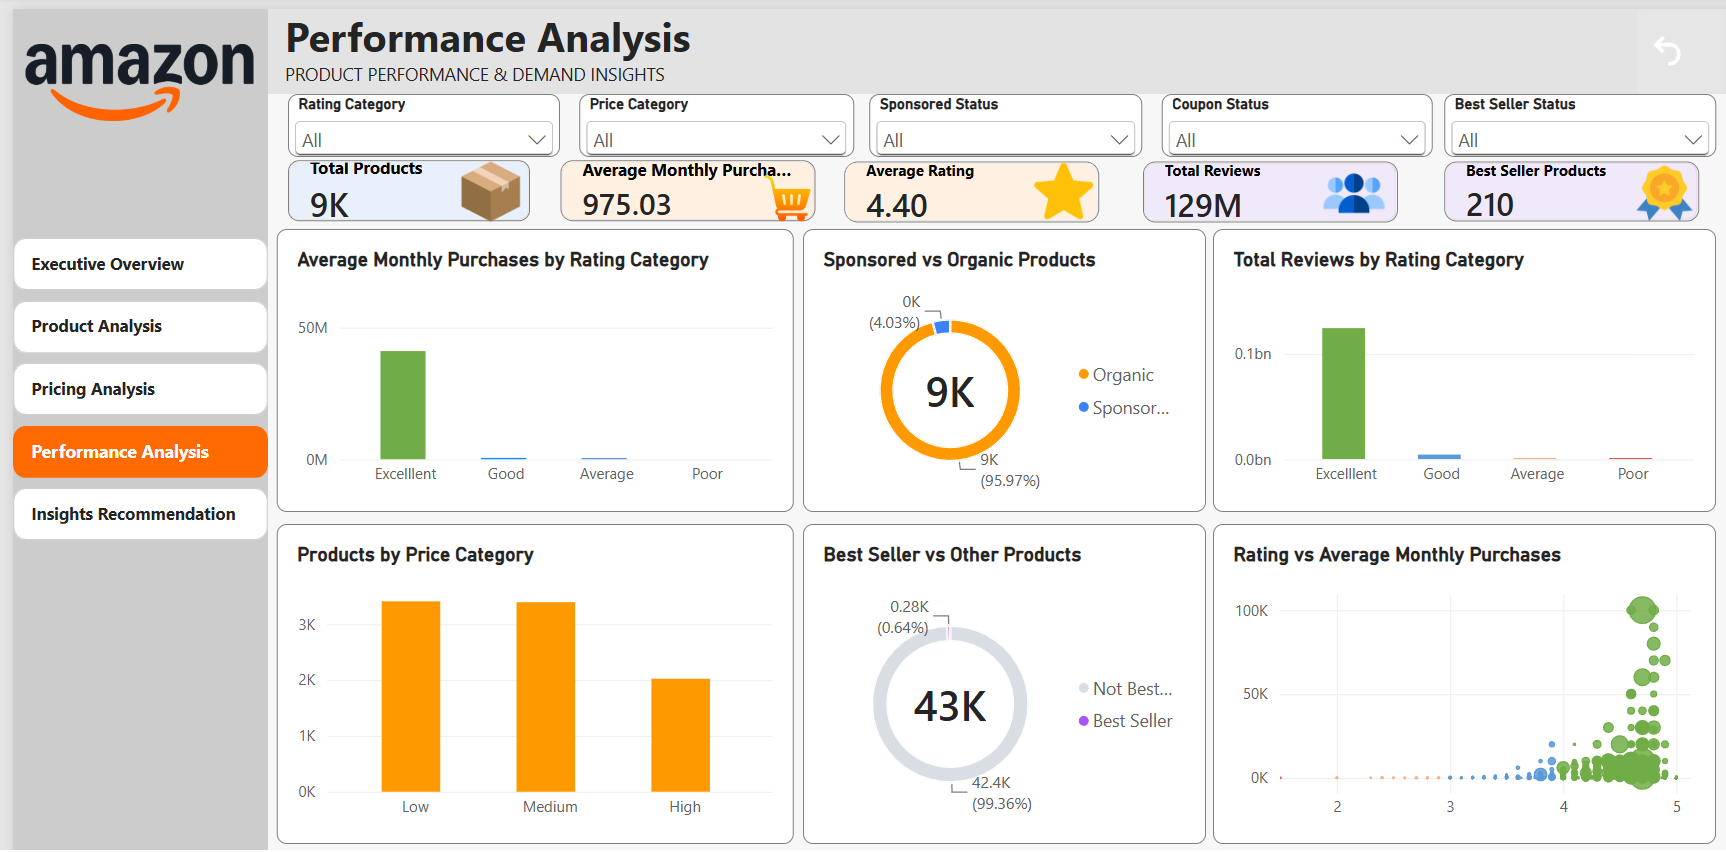

Layout of this report page (visuals, bound fields, positions):
{"tool":"powerbi","page":{"name":"Performance Analysis","canvas":[1920,1080],"ordinal":3},"visuals":[{"type":"shape","box":[0,0,204,784],"z":0},{"type":"pageNavigator","box":[0,183,204,242],"z":1000},{"type":"shape","box":[204.4,0,1198.9,67.8],"z":2000},{"type":"image","box":[10,20,183,78],"z":3000},{"type":"textbox","box":[218,0,512,68],"z":4000},{"type":"slicer","fields":{"Values":["amazon_products_sales_data_uncl.Rating Category"]},"box":[220,68,218,50],"z":5000},{"type":"slicer","fields":{"Values":["amazon_products_sales_data_uncl.Price Category"]},"box":[453,68,220,50],"z":6000},{"type":"slicer","fields":{"Values":["amazon_products_sales_data_uncl.is_sponsored"]},"box":[685,68,219,50],"z":7000},{"type":"slicer","fields":{"Values":["amazon_products_sales_data_uncl.Coupon Status"]},"box":[919,68,217,50],"z":8000},{"type":"slicer","fields":{"Values":["amazon_products_sales_data_uncl.Best Seller Status"]},"box":[1145,68,218,50],"z":9000},{"type":"cardVisual","fields":{"Data":["amazon_products_sales_data_uncl.Total Products"]},"box":[220,121,194,49],"z":10000},{"type":"cardVisual","fields":{"Data":["amazon_products_sales_data_uncl.Average Monthly Purchases"]},"box":[438,121,204,49],"z":11000},{"type":"cardVisual","fields":{"Data":["amazon_products_sales_data_uncl.Average Rating"]},"box":[665,122,204,49],"z":12000},{"type":"cardVisual","fields":{"Data":["amazon_products_sales_data_uncl.Total Reviews"]},"box":[904,122,204,49],"z":13000},{"type":"cardVisual","fields":{"Data":["amazon_products_sales_data_uncl.Best Seller Products"]},"box":[1145,122,204,48],"z":14000},{"type":"clusteredColumnChart","title":"Average Monthly Purchases by Rating Category","fields":{"Category":["amazon_products_sales_data_uncl.Rating Category"],"Y":["Sum(amazon_products_sales_data_uncl.Monthly purchase)"]},"box":[211,176,414,226],"z":15000},{"type":"clusteredColumnChart","title":"Total Reviews by Rating Category","fields":{"Category":["amazon_products_sales_data_uncl.Rating Category"],"Y":["amazon_products_sales_data_uncl.Total Reviews"]},"box":[960,176,403,226],"z":16000},{"type":"donutChart","title":"Sponsored vs Organic Products","fields":{"Category":["amazon_products_sales_data_uncl.is_sponsored"],"Y":["amazon_products_sales_data_uncl.Total Products"]},"box":[632,176,323,226],"z":17000},{"type":"clusteredColumnChart","title":"Products by Price Category","fields":{"Category":["amazon_products_sales_data_uncl.Price Category"],"Y":["amazon_products_sales_data_uncl.Total Products"]},"box":[211,412,414,256],"z":18000},{"type":"scatterChart","title":"Rating vs Average Monthly Purchases","fields":{"Y":["Avg(amazon_products_sales_data_uncl.Monthly purchase)"],"Series":["amazon_products_sales_data_uncl.Rating Category"],"Category":["amazon_products_sales_data_uncl.title"],"Size":["Avg(amazon_products_sales_data_uncl.number_of_reviews)"],"X":["Avg(amazon_products_sales_data_uncl.Rating)"]},"box":[960,412,403,256],"z":19000},{"type":"donutChart","title":"Best Seller vs Other Products","fields":{"Category":["amazon_products_sales_data_uncl.Best Seller Status"],"Y":["CountNonNull(amazon_products_sales_data_uncl.title)"]},"box":[632,412,323,256],"z":20000},{"type":"image","box":[351,122,63,48],"z":21000},{"type":"image","box":[598,133,44,37],"z":22000},{"type":"image","box":[813,122,56,47],"z":23000},{"type":"image","box":[1046,123,54,49],"z":24000},{"type":"image","box":[1294,123,55,49],"z":25000},{"type":"actionButton","box":[1299,0,71,68],"z":25001}]}

Visuals, with their boxes on the page's 1920x1080 design canvas (x1, y1, x2, y2). These are canvas units, not pixel positions in the 1726x852 screenshot, which may show the page scaled, cropped or inside an application window:
shape: box(0, 0, 204, 784)
pageNavigator: box(0, 183, 204, 425)
shape: box(204, 0, 1403, 68)
image: box(10, 20, 193, 98)
textbox: box(218, 0, 730, 68)
slicer - amazon_products_sales_data_uncl.Rating Category: box(220, 68, 438, 118)
slicer - amazon_products_sales_data_uncl.Price Category: box(453, 68, 673, 118)
slicer - amazon_products_sales_data_uncl.is_sponsored: box(685, 68, 904, 118)
slicer - amazon_products_sales_data_uncl.Coupon Status: box(919, 68, 1136, 118)
slicer - amazon_products_sales_data_uncl.Best Seller Status: box(1145, 68, 1363, 118)
cardVisual - amazon_products_sales_data_uncl.Total Products: box(220, 121, 414, 170)
cardVisual - amazon_products_sales_data_uncl.Average Monthly Purchases: box(438, 121, 642, 170)
cardVisual - amazon_products_sales_data_uncl.Average Rating: box(665, 122, 869, 171)
cardVisual - amazon_products_sales_data_uncl.Total Reviews: box(904, 122, 1108, 171)
cardVisual - amazon_products_sales_data_uncl.Best Seller Products: box(1145, 122, 1349, 170)
"Average Monthly Purchases by Rating Category" clusteredColumnChart: box(211, 176, 625, 402)
"Total Reviews by Rating Category" clusteredColumnChart: box(960, 176, 1363, 402)
"Sponsored vs Organic Products" donutChart: box(632, 176, 955, 402)
"Products by Price Category" clusteredColumnChart: box(211, 412, 625, 668)
"Rating vs Average Monthly Purchases" scatterChart: box(960, 412, 1363, 668)
"Best Seller vs Other Products" donutChart: box(632, 412, 955, 668)
image: box(351, 122, 414, 170)
image: box(598, 133, 642, 170)
image: box(813, 122, 869, 169)
image: box(1046, 123, 1100, 172)
image: box(1294, 123, 1349, 172)
actionButton: box(1299, 0, 1370, 68)
